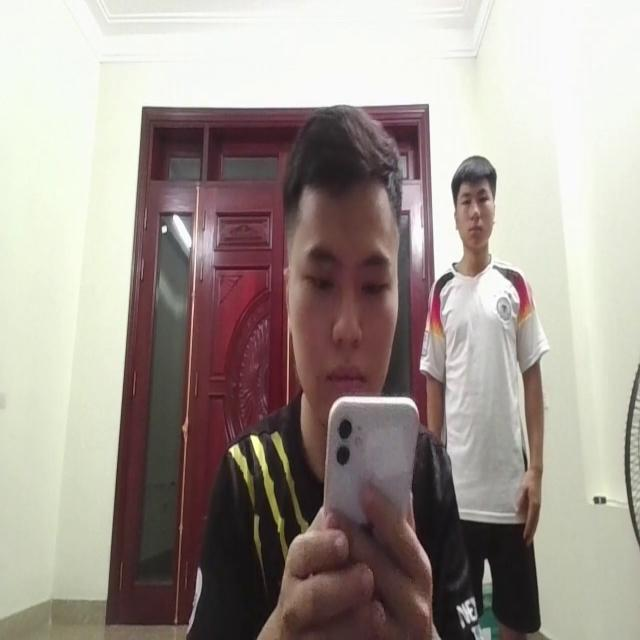extra_person: (410, 155, 548, 640)
phone: (312, 374, 422, 626)
student: (206, 90, 469, 640)
